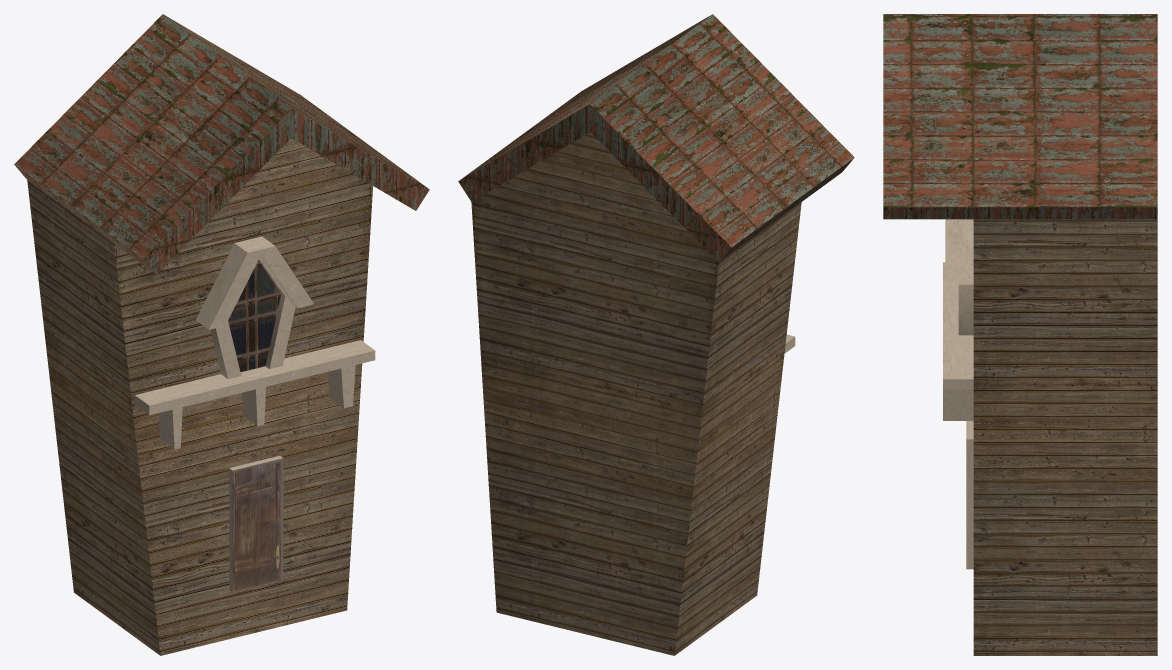
File: OU_AR_House_04_D.fbx
3 renders of one model, left to right at view 1: azimuth 30°, elevation 25°; view 2: azimuth 150°, elevation 25°; view 3: azimuth 270°, elevation 25°, orthographic. The views are drawn at different scales.
Parts seen in each view (by area): view 1: Line387; view 2: Line387; view 3: Line387.
Part boxes in pixels (x1,y1,x2,y2): Line387: (14,14,429,655); Line387: (458,14,854,655); Line387: (883,14,1157,655).
Size of the model in its own units: 564 by 1048 by 440.
5 materials, 5 textured.
